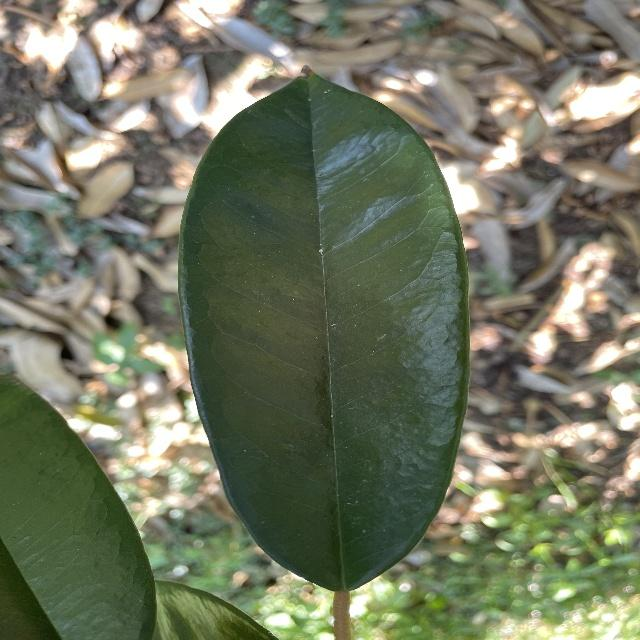No Disease: (171, 55, 474, 601)
